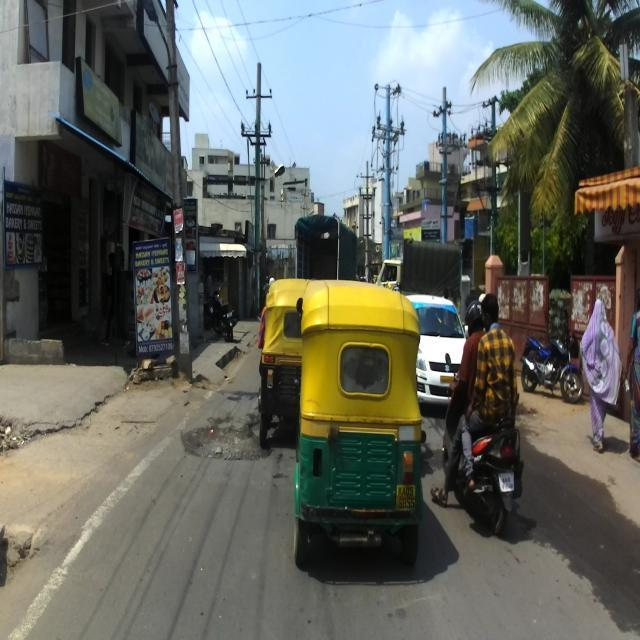Pothole: (173, 410, 258, 470)
